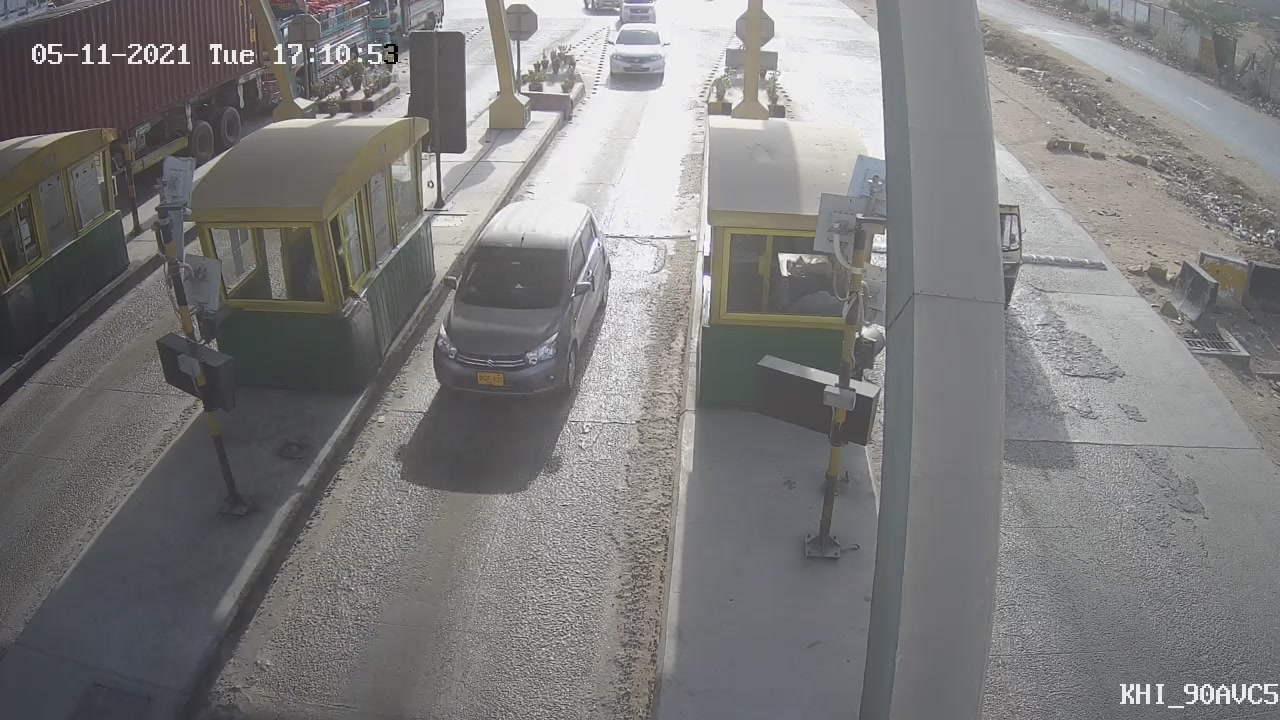F1: (413, 175, 631, 427)
